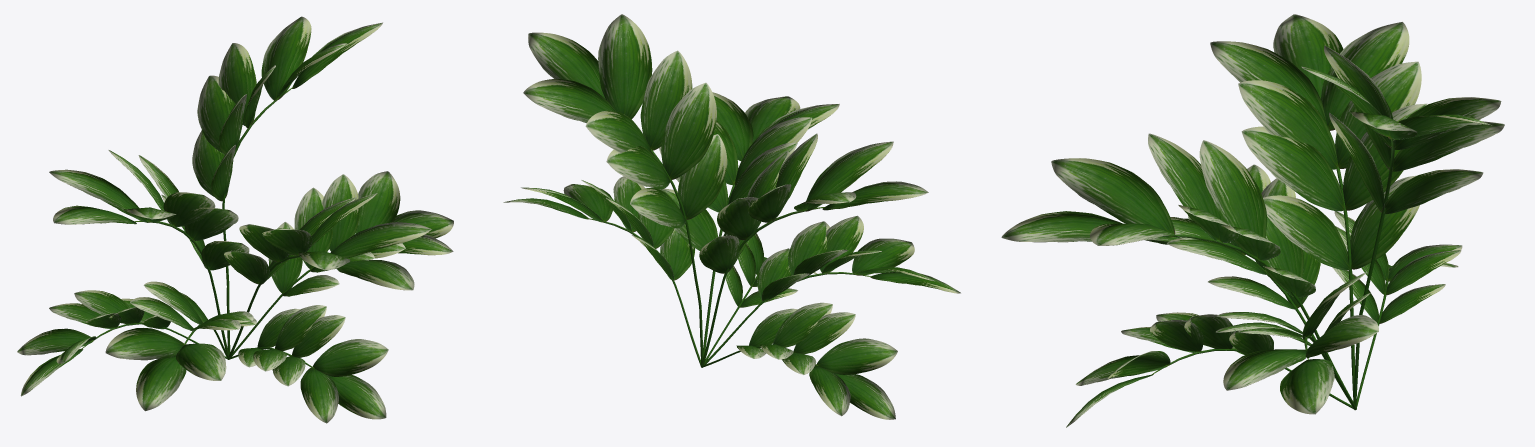
File: amadokoro_nocolor.fbx
3 views of the same model, side by side, from view 1: azimuth 30°, elevation 25°; view 2: azimuth 150°, elevation 25°; view 3: azimuth 270°, elevation 25° (orthographic). The views are drawn at different scales.
Visible parts, largest first — view 1: 円柱.004, 円柱.002, 円柱, 円柱.005, 円柱.003, 円柱.001, 円柱.006; view 2: 円柱.004, 円柱.001, 円柱.006, 円柱, 円柱.003, 円柱.005, 円柱.002; view 3: 円柱.001, 円柱, 円柱.004, 円柱.005, 円柱.002, 円柱.006, 円柱.003.
Part boxes in pixels (left/top/right/bottom): 円柱.004: left=192, top=16, right=382, bottom=354; 円柱.002: left=229, top=305, right=388, bottom=423; 円柱: left=224, top=193, right=431, bottom=357; 円柱.005: left=231, top=171, right=453, bottom=356; 円柱.003: left=105, top=281, right=256, bottom=411; 円柱.001: left=49, top=150, right=249, bottom=359; 円柱.006: left=17, top=290, right=227, bottom=396; 円柱.004: left=523, top=14, right=727, bottom=364; 円柱.001: left=699, top=133, right=928, bottom=367; 円柱.006: left=702, top=302, right=897, bottom=419; 円柱: left=659, top=92, right=839, bottom=356; 円柱.003: left=704, top=215, right=960, bottom=364; 円柱.005: left=503, top=176, right=700, bottom=366; 円柱.002: left=704, top=233, right=817, bottom=362; 円柱.001: left=1210, top=14, right=1427, bottom=409; 円柱: left=1001, top=133, right=1356, bottom=410; 円柱.004: left=1301, top=45, right=1504, bottom=406; 円柱.005: left=1216, top=272, right=1378, bottom=414; 円柱.002: left=1066, top=312, right=1353, bottom=427; 円柱.006: left=1332, top=211, right=1462, bottom=406; 円柱.003: left=1145, top=164, right=1348, bottom=400.
Size of the model in its own units: 56.95 by 40.52 by 47.4.
1 material, 1 textured.
